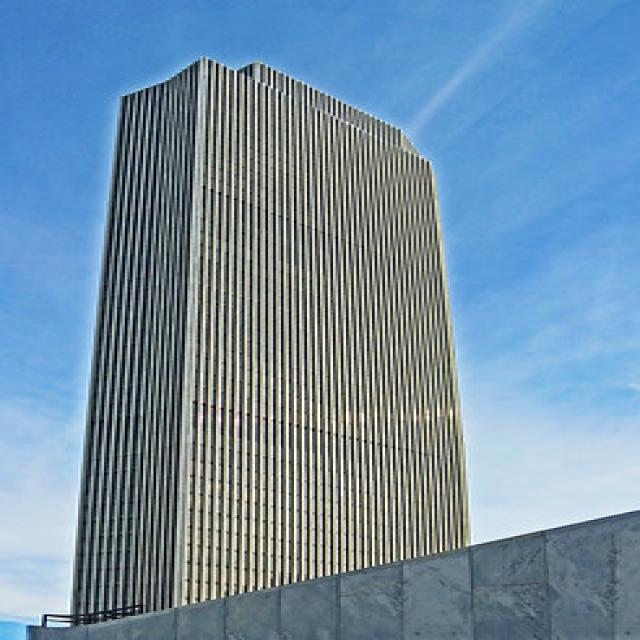building: (68, 55, 474, 604)
